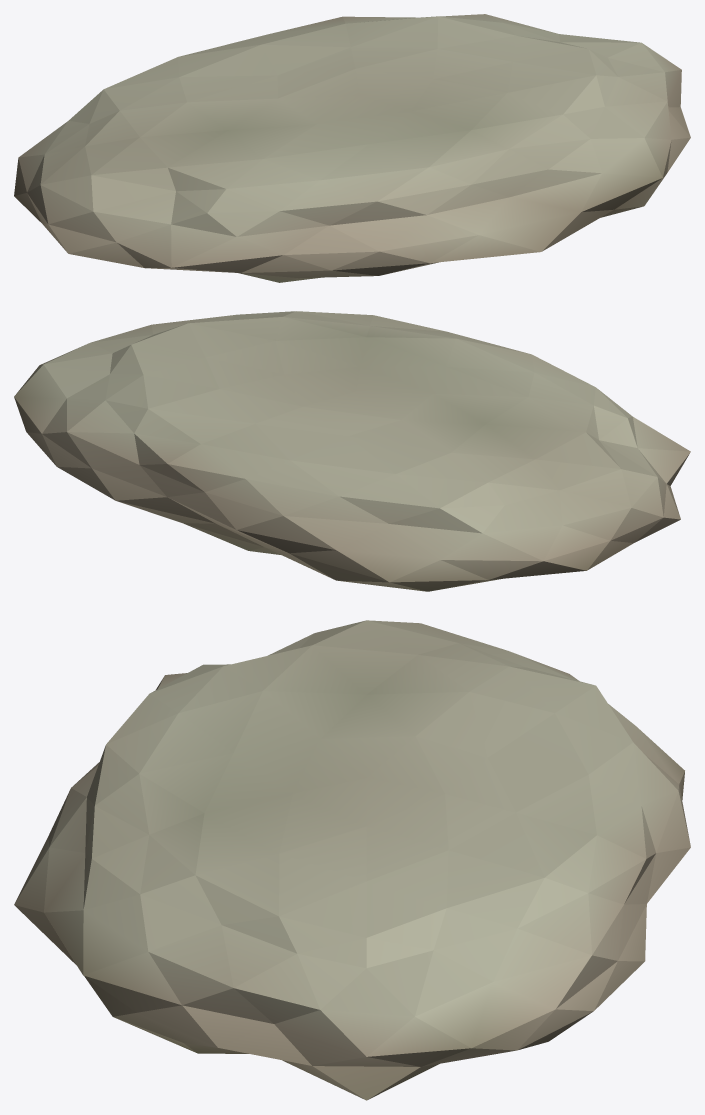
The model's file is prop_rock_slab_flat_01.glb.
3 views of the same model, one above another, from view 1: azimuth 30°, elevation 25°; view 2: azimuth 150°, elevation 25°; view 3: azimuth 270°, elevation 25° (orthographic). The views are drawn at different scales.
Parts seen in each view (by area): view 1: prop_rock_slab_flat_01; view 2: prop_rock_slab_flat_01; view 3: prop_rock_slab_flat_01.
Part boxes in pixels (x1,y1,x2,y2): prop_rock_slab_flat_01: (14, 14, 690, 282); prop_rock_slab_flat_01: (14, 311, 690, 591); prop_rock_slab_flat_01: (14, 620, 690, 1100).
Bounding box in the file's own units: 1.06 × 0.1843 × 0.7331.
